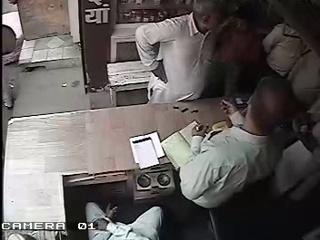Normal: (178, 77, 297, 210), (134, 0, 226, 104)
